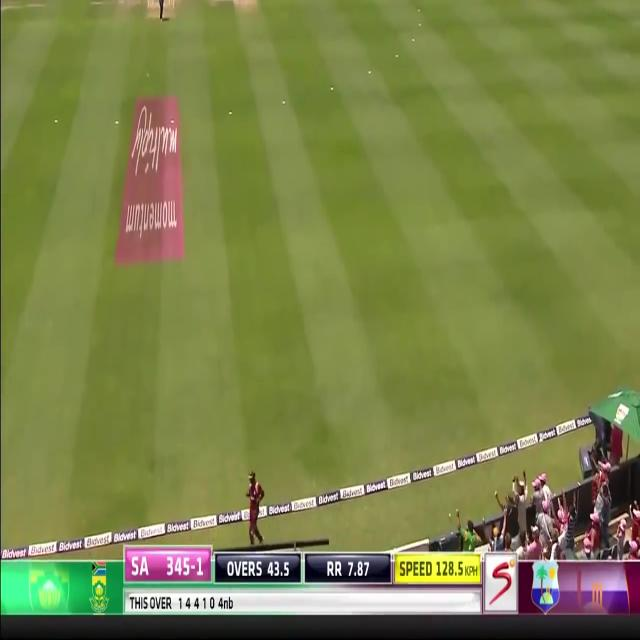Fielder: (244, 472, 269, 547)
